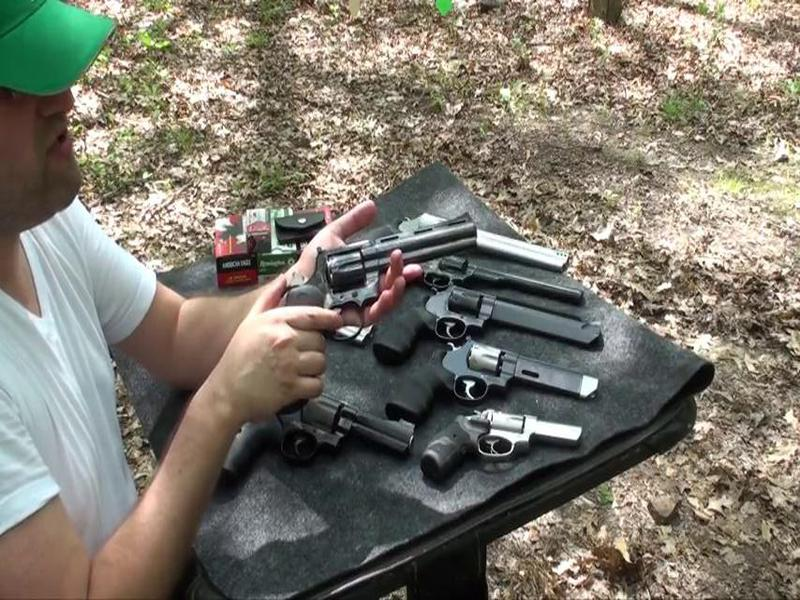Revolver: (273, 209, 488, 341)
